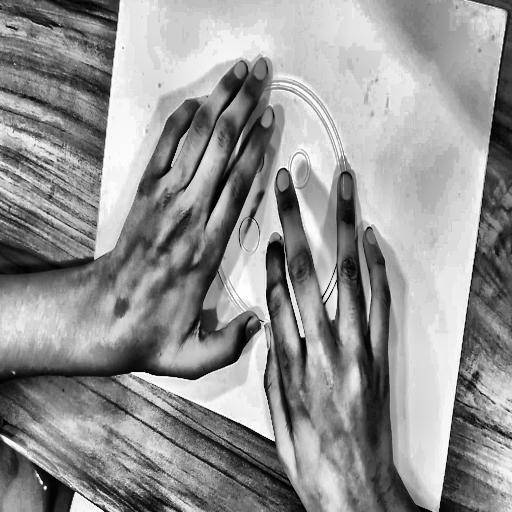bottom_left: (87, 329, 95, 343)
button: (180, 50, 378, 376)
top_right: (504, 6, 511, 20)
